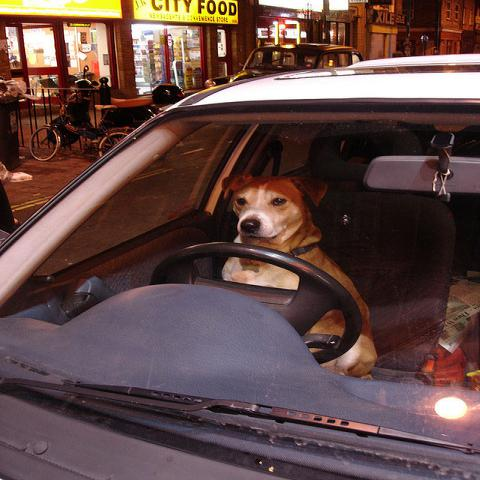car: (0, 53, 479, 479), (229, 42, 364, 84)
